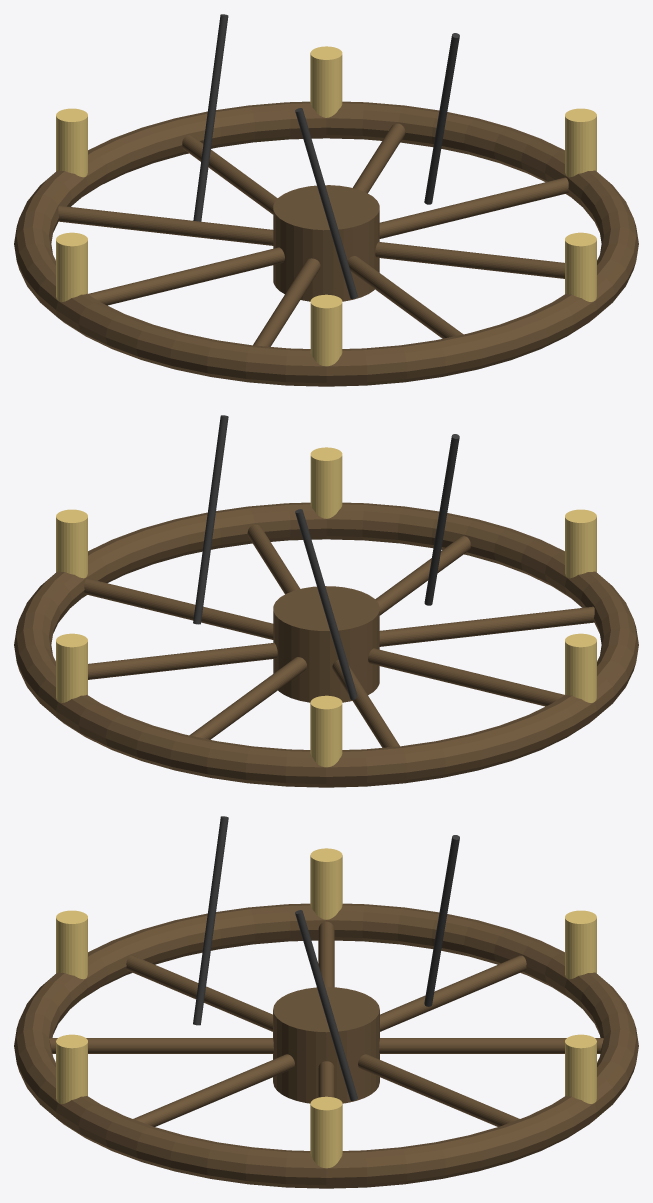
The model's file is saloon_wagon_wheel_chandelier.glb.
3 views of the same model, one above another, from view 1: azimuth 30°, elevation 25°; view 2: azimuth 150°, elevation 25°; view 3: azimuth 270°, elevation 25° (orthographic).
Parts seen in each view (by area): view 1: Saloon_Wagon_Wheel_Chandelier; view 2: Saloon_Wagon_Wheel_Chandelier; view 3: Saloon_Wagon_Wheel_Chandelier.
Part boxes in pixels (left/top/right/bottom): Saloon_Wagon_Wheel_Chandelier: left=14, top=14, right=638, bottom=386; Saloon_Wagon_Wheel_Chandelier: left=14, top=415, right=638, bottom=787; Saloon_Wagon_Wheel_Chandelier: left=14, top=816, right=638, bottom=1188.
Size of the model in its own units: 2.34 by 0.9403 by 2.34.
